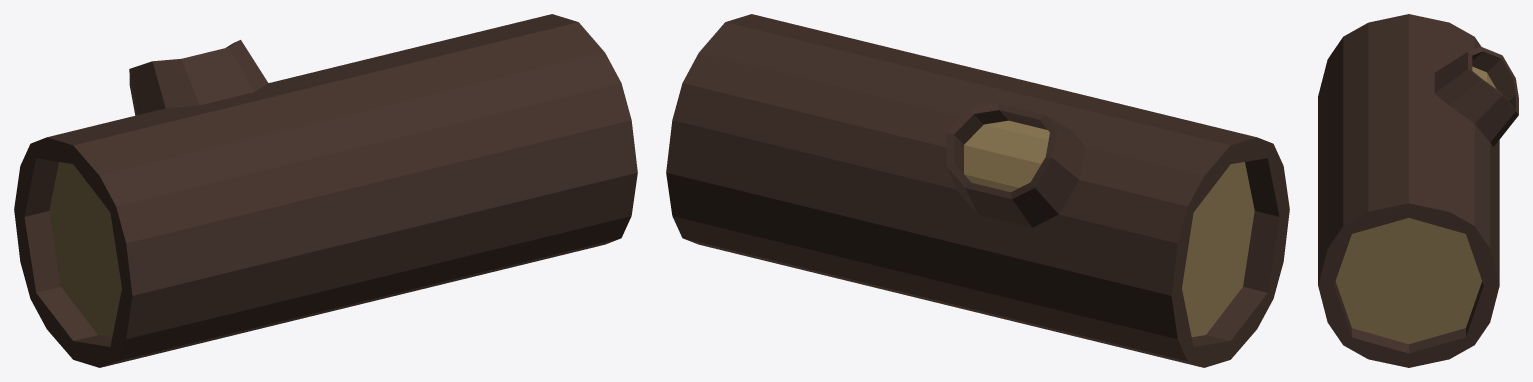
Rendered from Resource Wood.fbx.
3 views of the same model, side by side, from view 1: azimuth 30°, elevation 25°; view 2: azimuth 150°, elevation 25°; view 3: azimuth 270°, elevation 25° (orthographic). The views are drawn at different scales.
Visible parts, largest first — view 1: Resource Wood; view 2: Resource Wood; view 3: Resource Wood.
Part boxes in pixels (x1=…): Resource Wood: x1=14, y1=14, x2=637, y2=367; Resource Wood: x1=666, y1=14, x2=1289, y2=367; Resource Wood: x1=1318, y1=14, x2=1518, y2=367.
Size of the model in its own units: 412 by 184 by 184.
